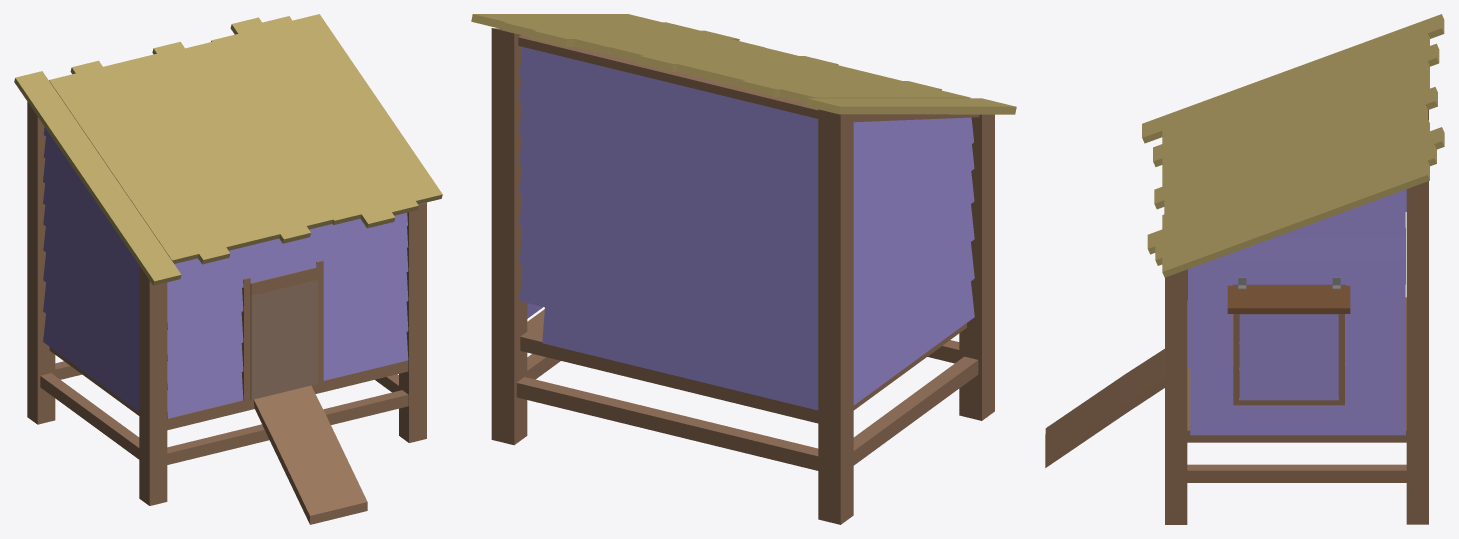
The model's file is Chicken_Coop_03.fbx.
3 renders of one model, left to right at view 1: azimuth 30°, elevation 25°; view 2: azimuth 150°, elevation 25°; view 3: azimuth 270°, elevation 25°, orthographic. The views are drawn at different scales.
Parts seen in each view (by area): view 1: Chicken_coop3_Combined; view 2: Chicken_coop3_Combined; view 3: Chicken_coop3_Combined.
Part boxes in pixels (x1=…): Chicken_coop3_Combined: x1=14, y1=14, x2=442, y2=524; Chicken_coop3_Combined: x1=471, y1=14, x2=1016, y2=524; Chicken_coop3_Combined: x1=1045, y1=14, x2=1444, y2=524.
Size of the model in its own units: 604 by 618 by 610.
